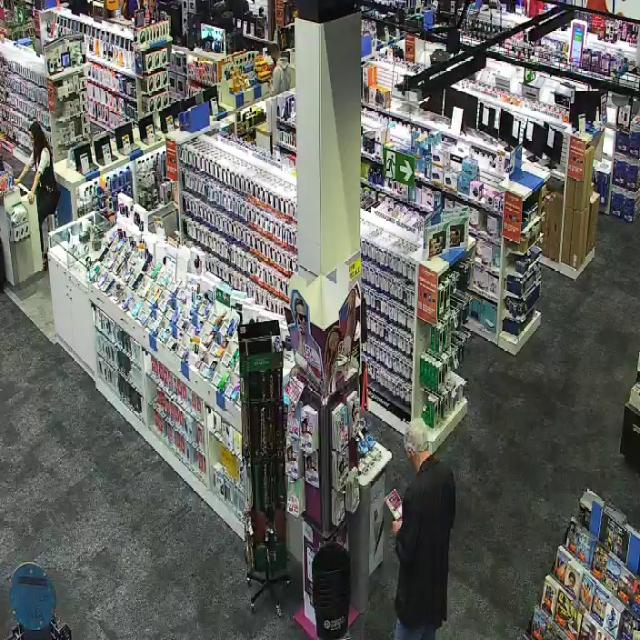article: (384, 488, 402, 520)
hands: (392, 519, 402, 535), (29, 192, 35, 203), (15, 178, 21, 185)
person: (393, 422, 455, 639), (16, 123, 59, 256), (269, 44, 290, 95)
